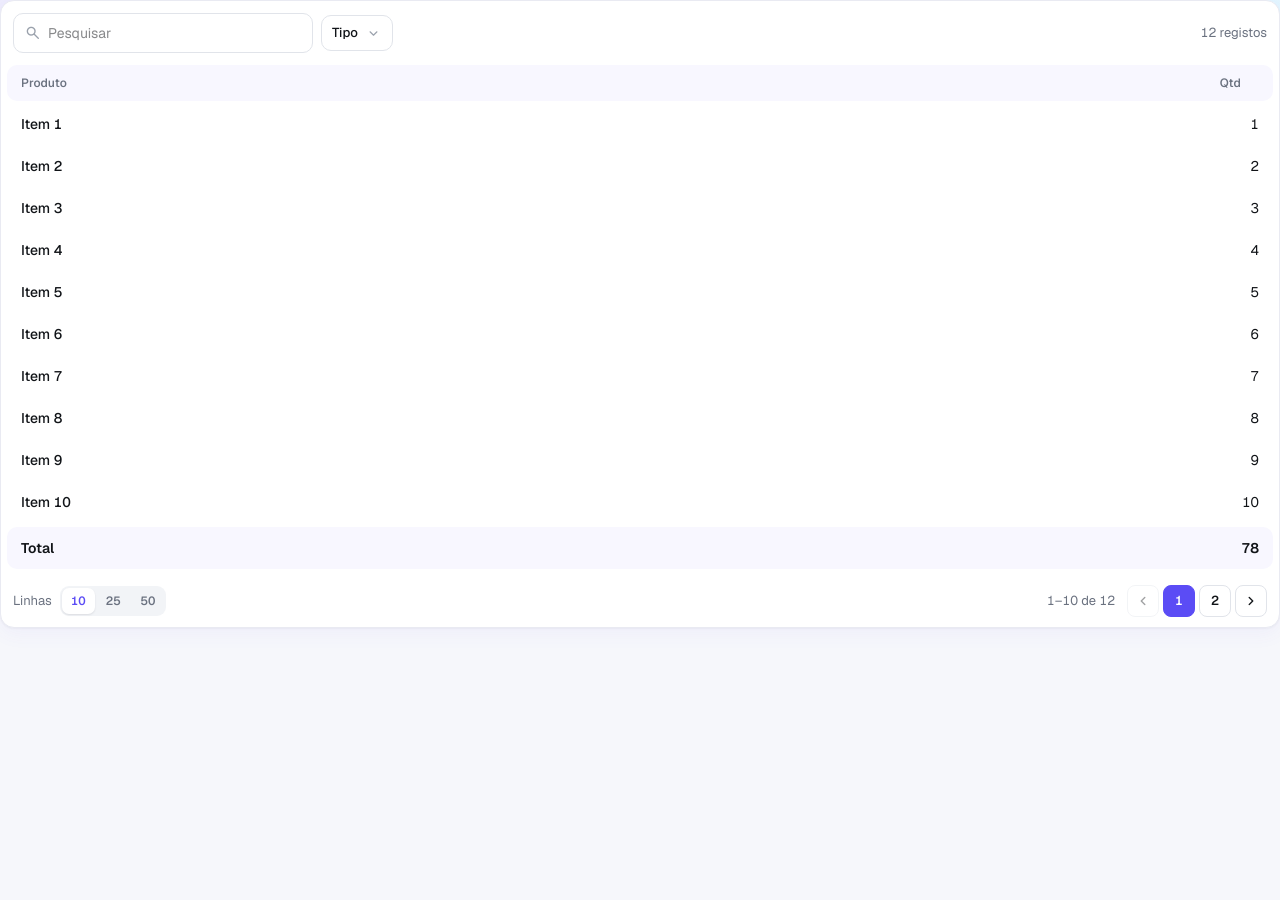
DataTable › filters by a column filter
Click the button with aria-label "Tipo: Tipo".
click(357, 33)  # box 321,15 -> 393,51
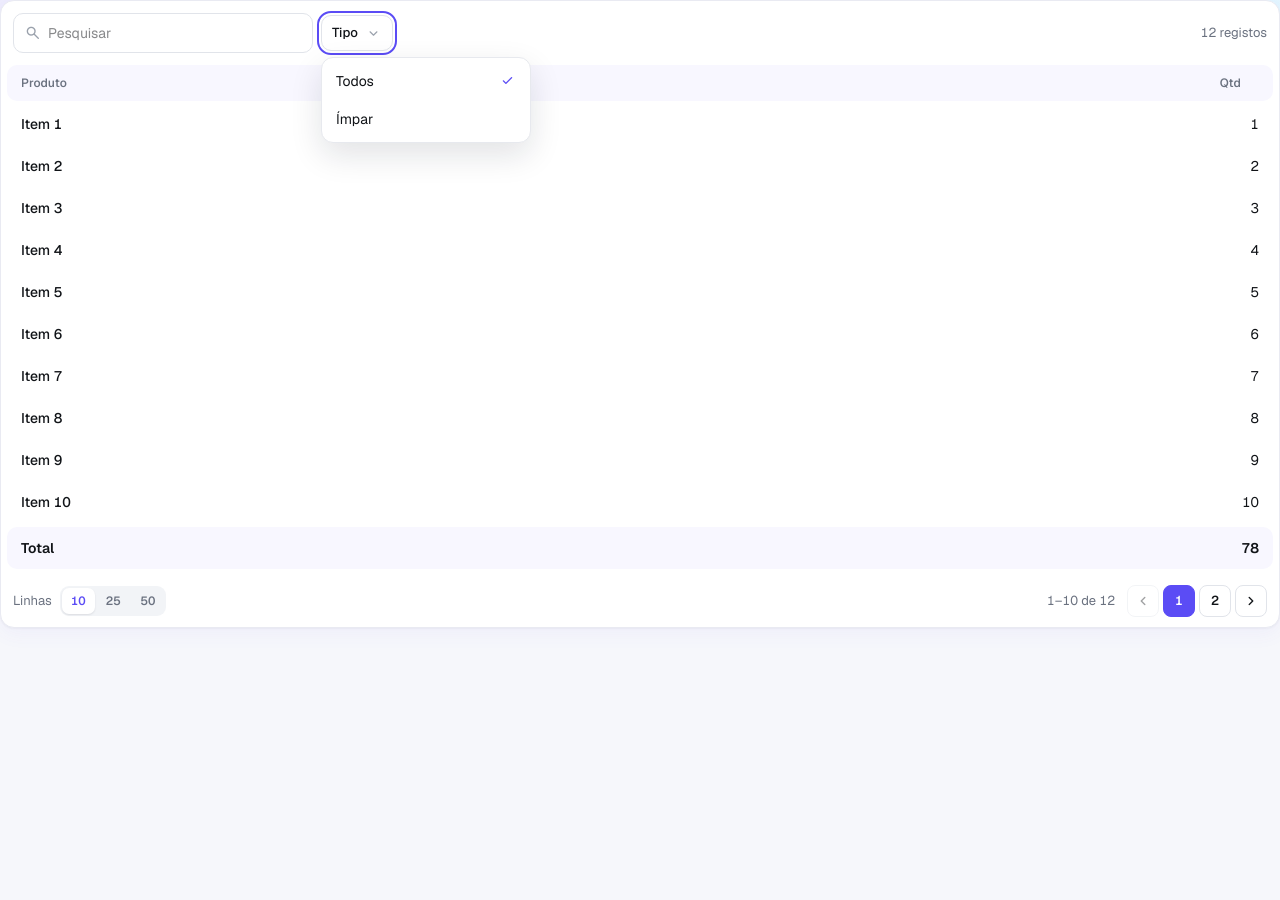
Click the option "Ímpar".
click(426, 119)  # box 326,100 -> 526,138
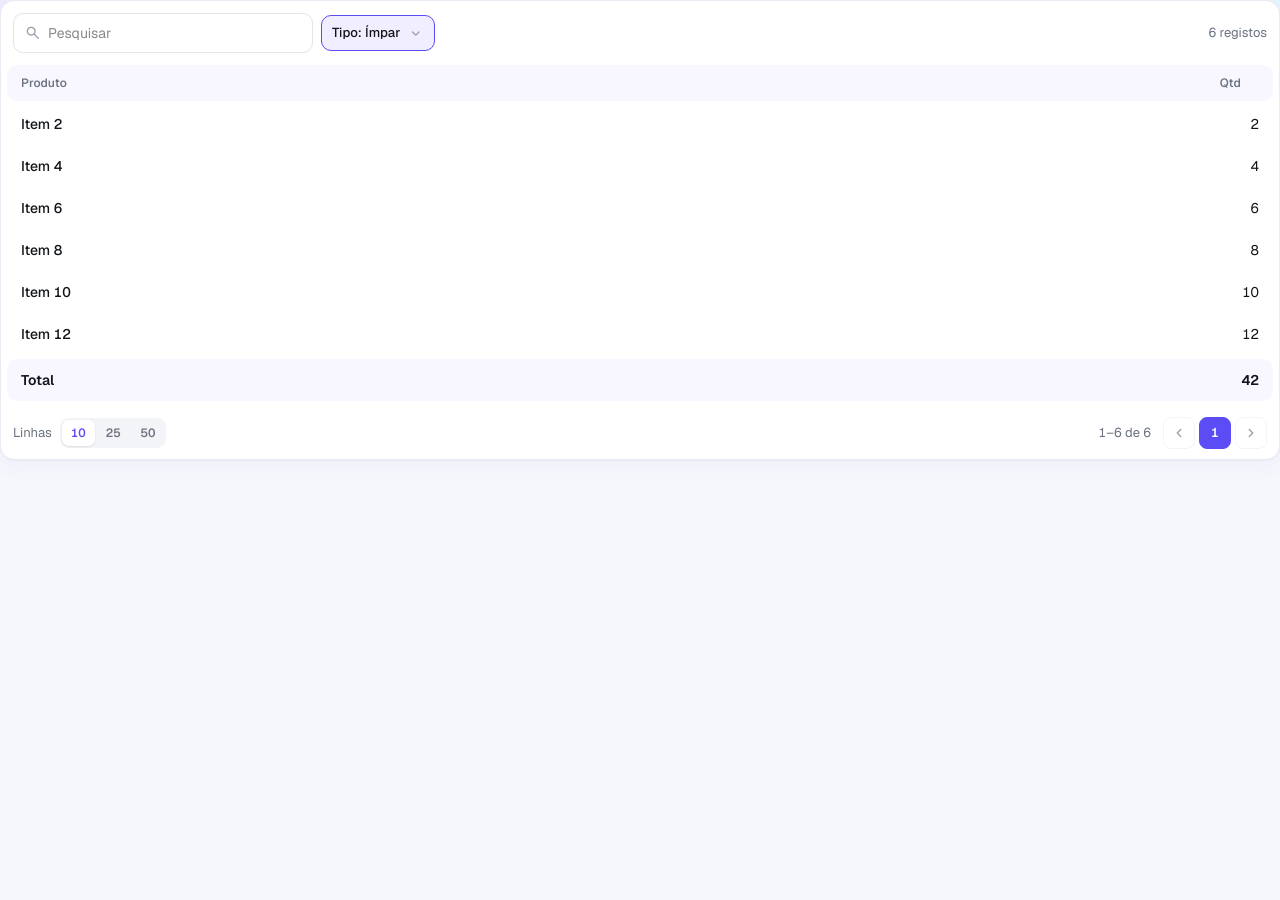
Check: the text "6 registos" is shown, box 1208,23 -> 1267,43
